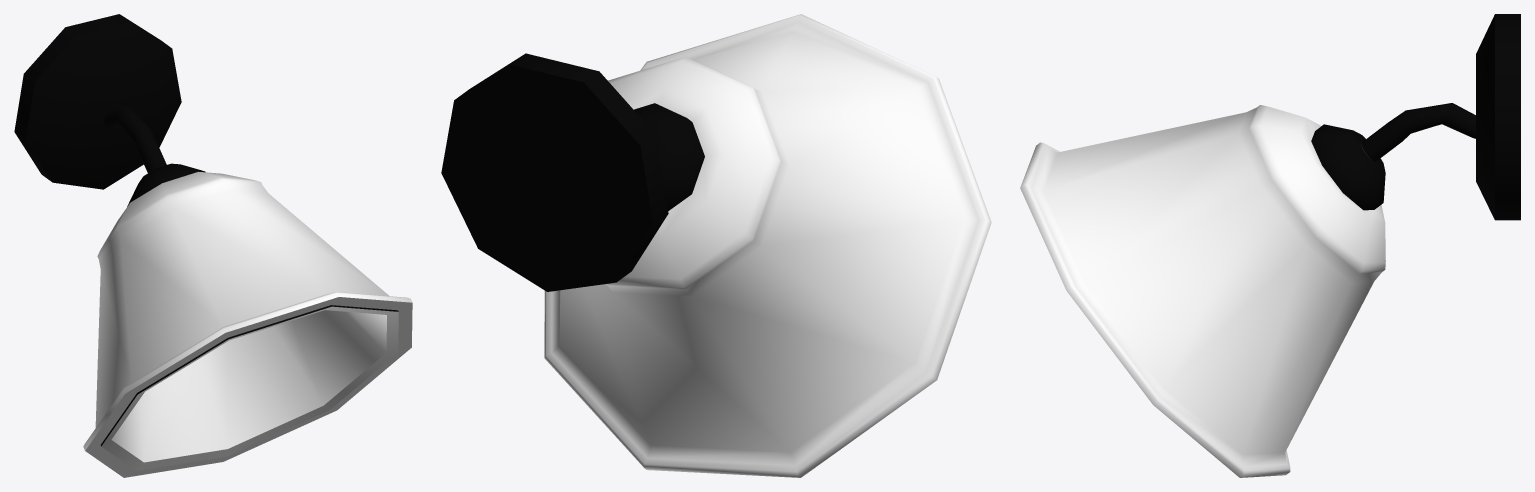
File: wall_lamp.glb
The picture shows the model from 3 angles, left to right: view 1: azimuth 30°, elevation 25°; view 2: azimuth 150°, elevation 25°; view 3: azimuth 270°, elevation 25°; orthographic projection. The views are drawn at different scales.
Visible parts, largest first — view 1: wall_lamp; view 2: wall_lamp; view 3: wall_lamp.
Part boxes in pixels (bbox=[...]): wall_lamp: bbox=[14, 14, 412, 477]; wall_lamp: bbox=[441, 14, 991, 477]; wall_lamp: bbox=[1020, 14, 1520, 477].
Bounding box in the file's own units: 0.2251 × 0.2621 × 0.2768.
Materials: 1 (1 with a texture image).
